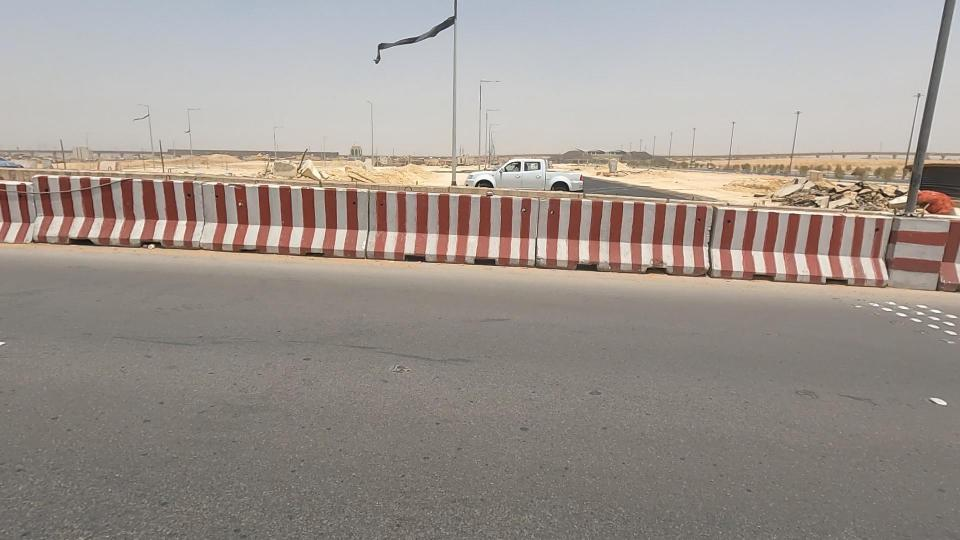CONSTRUCTION_ROAD: (436, 150, 833, 303), (0, 131, 378, 290), (238, 141, 582, 295)
GARBAGE: (745, 159, 881, 238), (889, 152, 960, 234), (816, 170, 916, 219)
